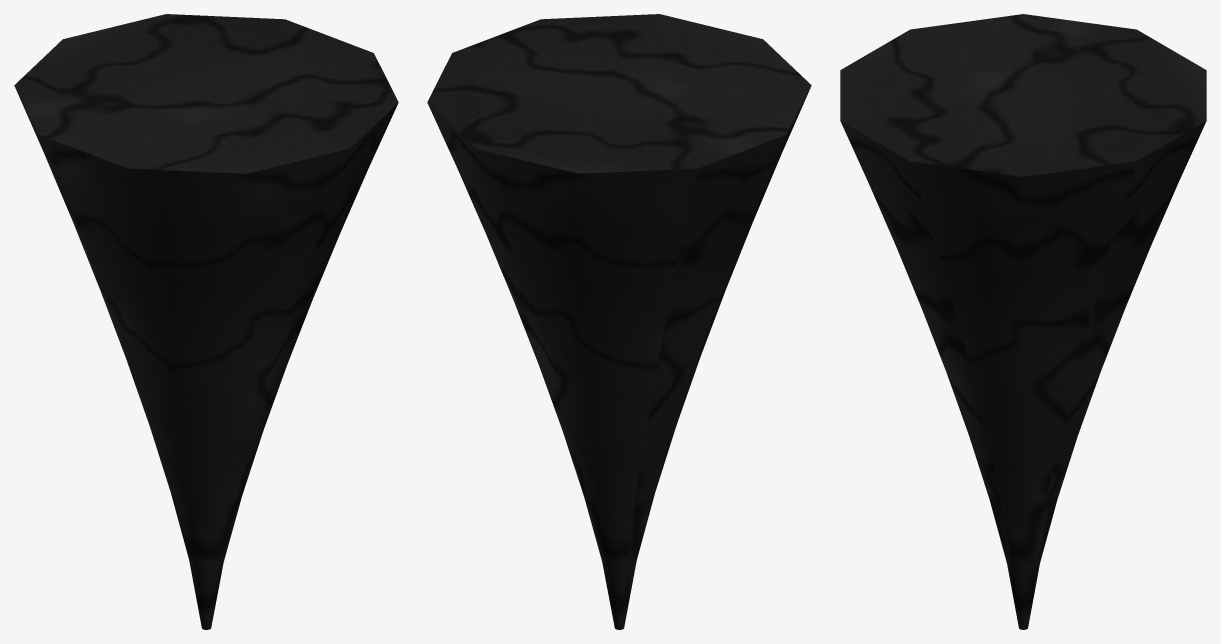
File: stalactite.glb
3 views of the same model, side by side, from view 1: azimuth 30°, elevation 25°; view 2: azimuth 150°, elevation 25°; view 3: azimuth 270°, elevation 25° (orthographic).
Parts seen in each view (by area): view 1: boat_caverock; view 2: boat_caverock; view 3: boat_caverock.
Part boxes in pixels (x1=…): boat_caverock: x1=14, y1=14, x2=398, y2=629; boat_caverock: x1=427, y1=14, x2=811, y2=629; boat_caverock: x1=840, y1=14, x2=1206, y2=629.
Size of the model in its own units: 0.656 by 1 by 0.6239.
Materials: 1 (1 with a texture image).
